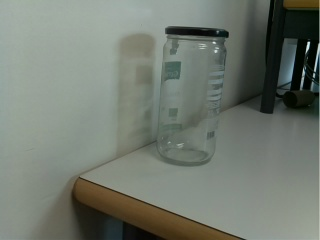pote cristal: (155, 22, 232, 169)
